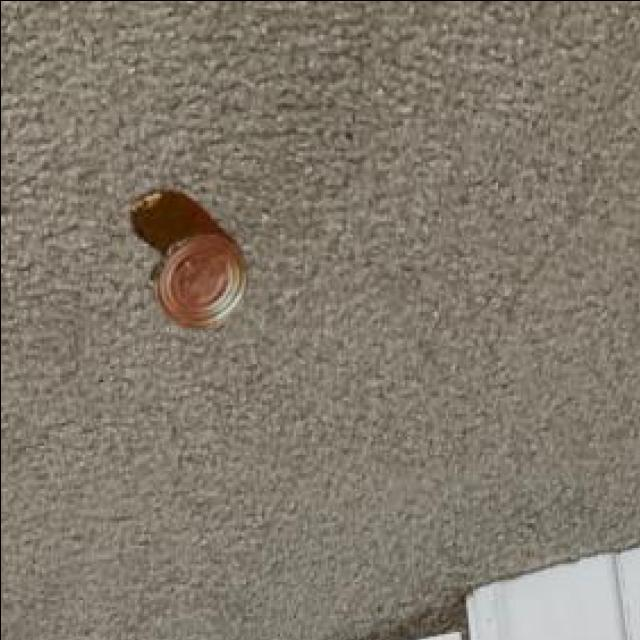logam: (135, 192, 249, 330)
